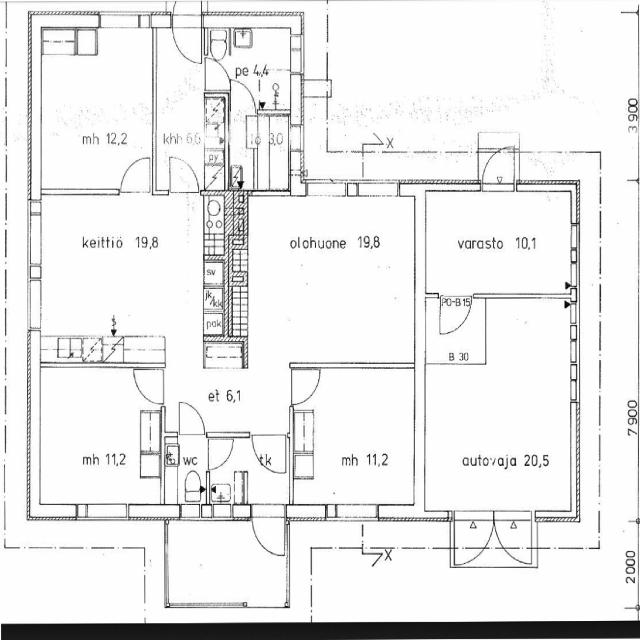door: (454, 511, 493, 569), (493, 511, 531, 569), (252, 504, 284, 561), (482, 140, 514, 191), (252, 432, 286, 478), (172, 11, 201, 63), (440, 293, 471, 336), (121, 156, 150, 196), (170, 156, 199, 196), (289, 370, 322, 404), (133, 369, 165, 404), (204, 58, 234, 90), (206, 439, 235, 470), (231, 79, 255, 116), (180, 401, 204, 437), (172, 0, 201, 28)
